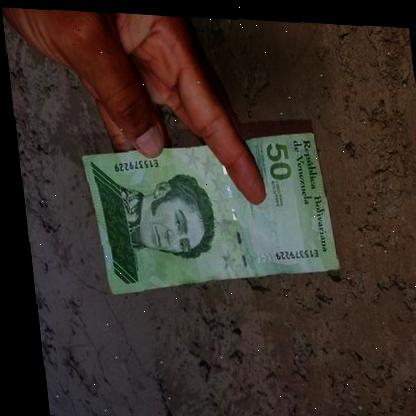fifty-front-vef: (75, 115, 338, 303)
